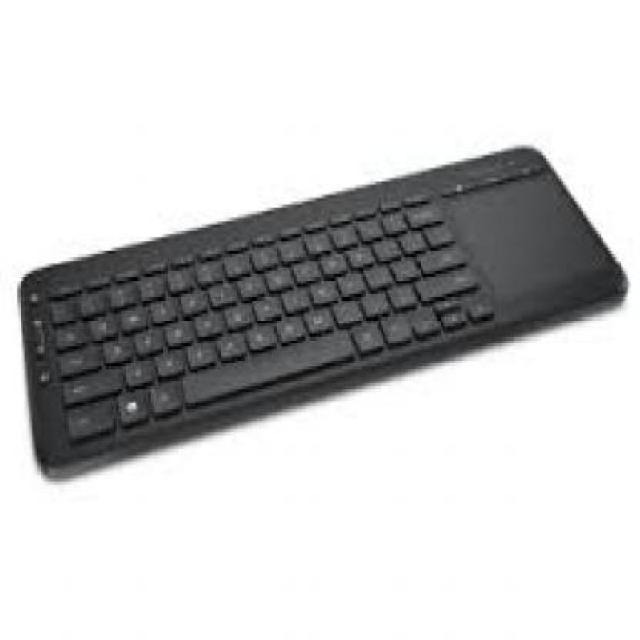keyboard: (23, 151, 636, 478)
